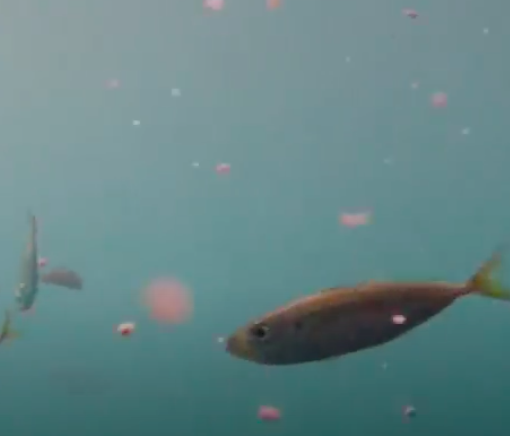azi: (211, 264, 504, 368)
